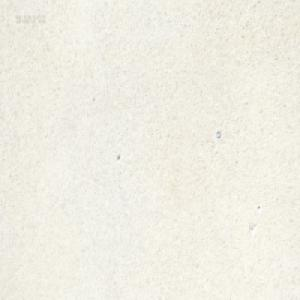Washer: (215, 129, 220, 138)
